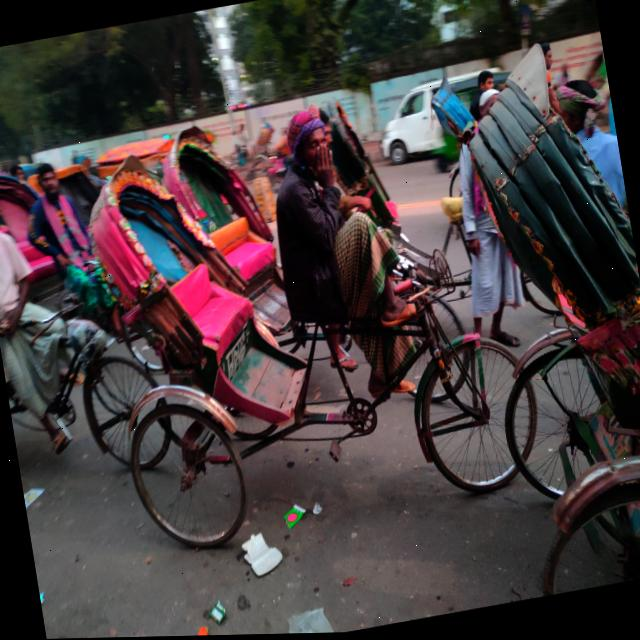rikshaw: (74, 113, 533, 572), (472, 47, 640, 598)
